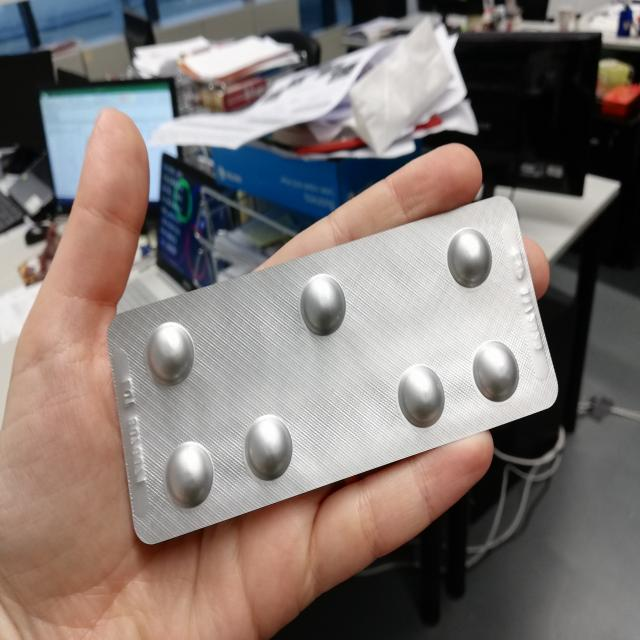Pill: (237, 407, 303, 489), (157, 433, 221, 515), (139, 314, 203, 392), (465, 330, 524, 409), (292, 266, 351, 342), (440, 220, 499, 294), (392, 356, 447, 435)
